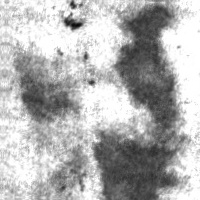patches: (109, 2, 183, 143), (91, 128, 181, 199), (15, 69, 72, 122)
